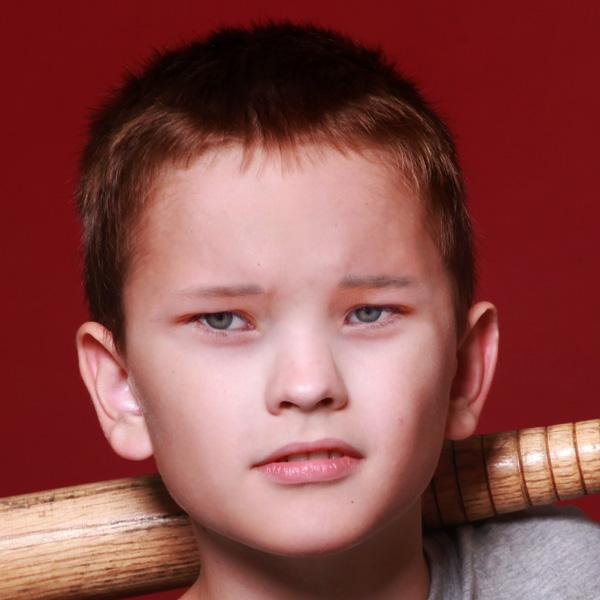Eyes: (329, 292, 420, 341), (174, 299, 262, 345)
